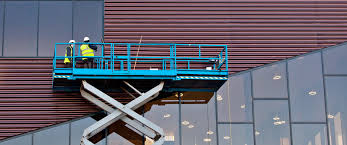Scissor Lift: (52, 41, 230, 145)
